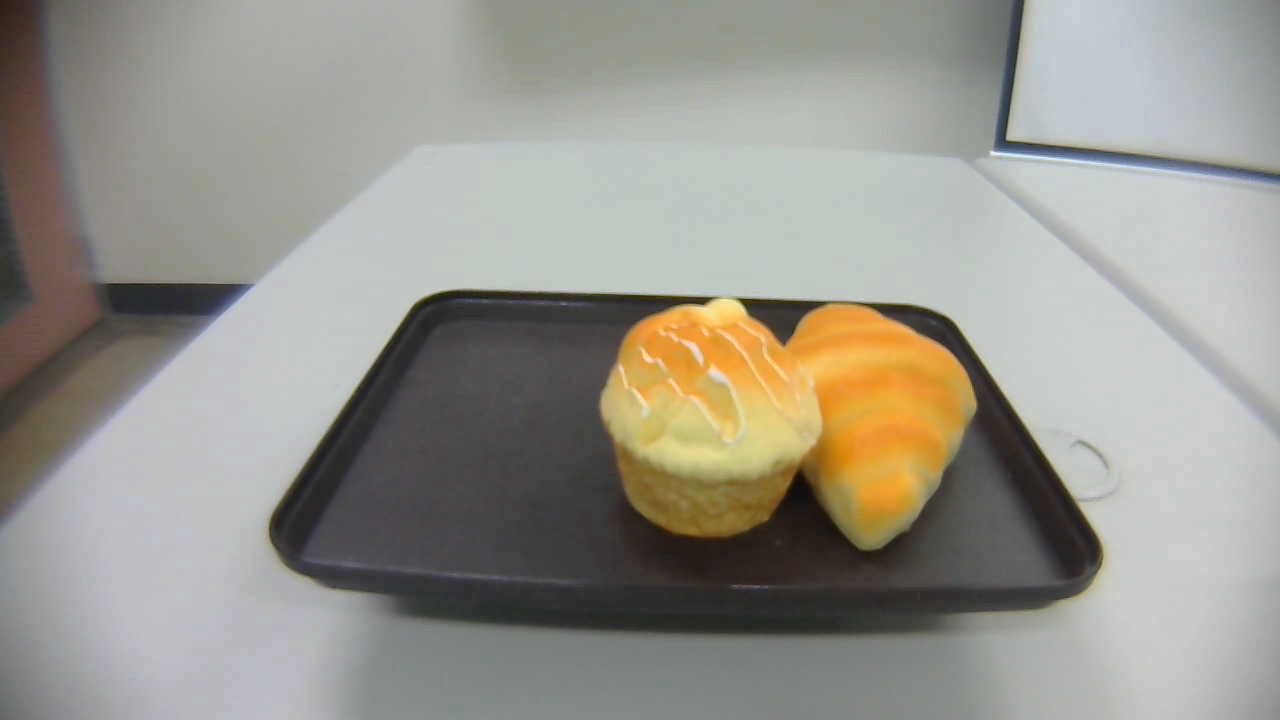croissant: (771, 300, 981, 555)
cupcake: (600, 299, 823, 541)
